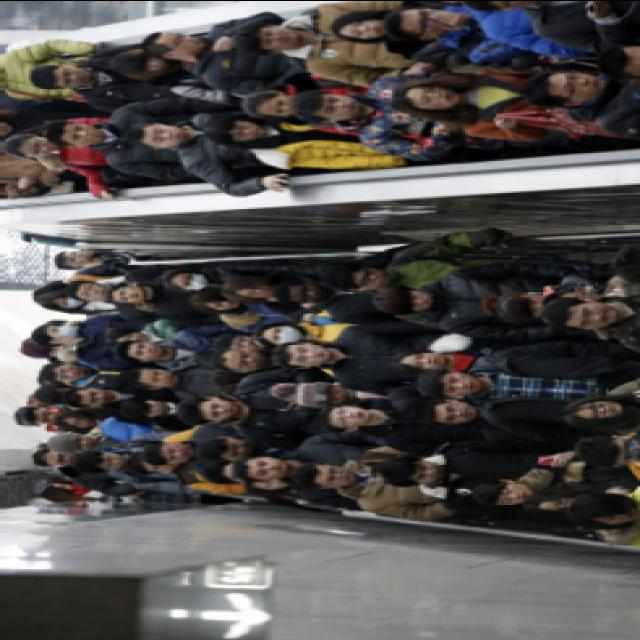with_mask: (266, 323, 298, 344), (178, 270, 204, 288), (55, 294, 83, 308), (47, 323, 73, 338)
without_mask: (559, 68, 601, 98), (572, 301, 616, 328), (318, 92, 361, 118), (410, 4, 452, 30), (415, 83, 457, 107), (258, 24, 298, 48), (353, 264, 389, 288), (290, 342, 329, 364), (146, 124, 182, 146), (66, 122, 102, 144), (442, 372, 478, 394), (332, 404, 368, 426), (601, 501, 635, 524), (348, 16, 383, 38), (439, 400, 475, 421), (232, 348, 266, 370), (496, 480, 530, 502), (583, 398, 619, 418), (167, 30, 201, 51), (251, 456, 285, 477), (322, 464, 356, 485), (230, 118, 262, 140), (206, 397, 238, 418), (413, 458, 441, 482), (144, 366, 176, 386), (411, 350, 446, 368), (26, 134, 54, 156), (295, 282, 329, 300), (130, 339, 162, 358), (406, 288, 434, 309), (57, 66, 89, 84), (266, 93, 292, 115), (522, 293, 548, 315), (162, 440, 188, 462), (224, 437, 250, 458), (76, 280, 104, 299), (230, 333, 262, 349), (112, 283, 140, 301), (322, 384, 348, 403), (84, 386, 110, 404), (99, 449, 123, 468), (240, 282, 272, 296), (55, 363, 83, 379), (141, 52, 165, 70), (141, 398, 165, 414), (210, 296, 238, 309), (50, 450, 74, 464), (548, 494, 570, 509), (34, 406, 55, 421), (66, 246, 92, 258), (66, 414, 92, 426), (259, 477, 287, 488), (74, 432, 92, 448), (570, 290, 598, 300), (120, 330, 144, 340), (146, 462, 174, 470), (55, 480, 73, 491)
